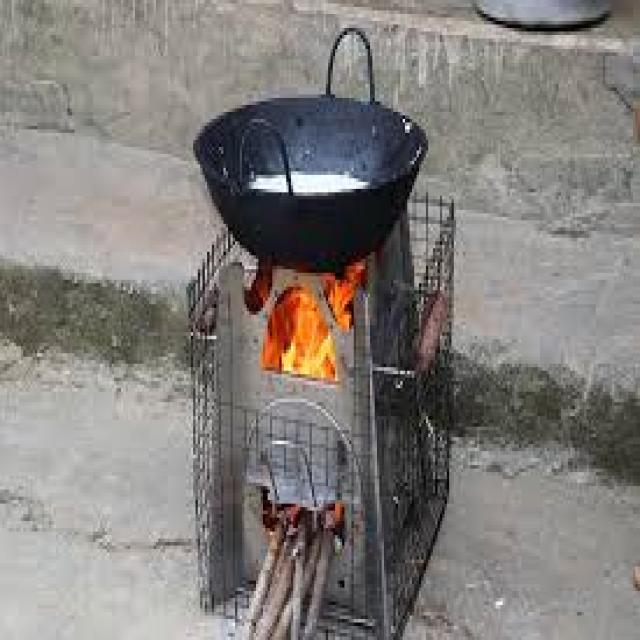fire: (263, 287, 338, 386), (322, 257, 365, 327)
